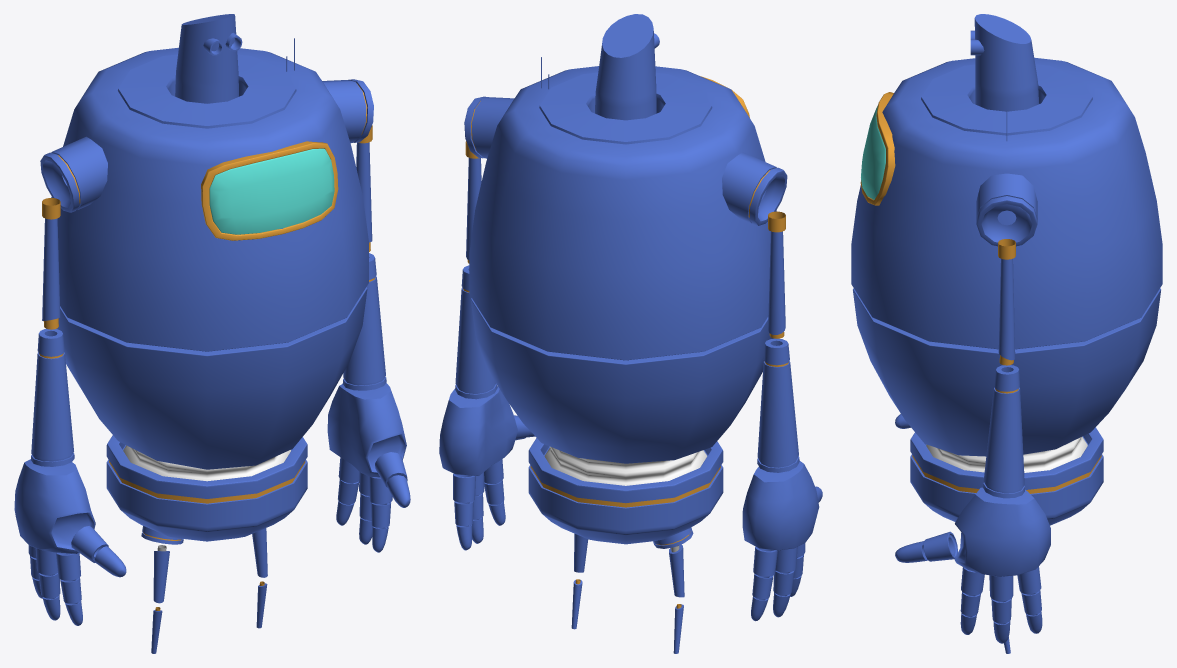
Rendered from Robot.fbx.
The picture shows the model from 3 angles, left to right: view 1: azimuth 30°, elevation 25°; view 2: azimuth 150°, elevation 25°; view 3: azimuth 270°, elevation 25°; orthographic projection. The views are drawn at different scales.
Parts seen in each view (by area): view 1: Torso_Geo, Hip_Geo, R_Hand_Geo, L_Hand_Geo, Head_Geo_Grp, R_Lower_Arm_Geo, L_Lower_Arm_Geo, R_Upper_Arm_Geo, Spine_Geo, L_Upper_Arm_Geo, R_Finger_01_Piece_01_Geo, R_Front_Thigh_Geo (+5 smaller); view 2: Torso_Geo, Hip_Geo, Head_Geo_Grp, R_Hand_Geo, L_Hand_Geo, R_Lower_Arm_Geo, Spine_Geo, L_Lower_Arm_Geo, R_Upper_Arm_Geo, L_Upper_Arm_Geo, R_Front_Thigh_Geo, L_Finger_04_Piece_01_Geo (+1 smaller); view 3: Torso_Geo, Hip_Geo, L_Hand_Geo, Head_Geo_Grp, L_Lower_Arm_Geo, Spine_Geo, L_Upper_Arm_Geo, L_Finger_01_Piece_01_Geo, L_Finger_03_Piece_01_Geo, L_Finger_02_Piece_01_Geo, L_Finger_01_Piece_02_Geo, L_Finger_04_Piece_01_Geo (+1 smaller).
Boxes of the visible parts, x1,y1,x2,y2 form: Torso_Geo: [40, 38, 373, 469]; Hip_Geo: [106, 435, 307, 544]; R_Hand_Geo: [14, 459, 95, 553]; L_Hand_Geo: [327, 383, 406, 477]; Head_Geo_Grp: [175, 14, 242, 103]; R_Lower_Arm_Geo: [31, 328, 74, 466]; L_Lower_Arm_Geo: [342, 253, 386, 390]; R_Upper_Arm_Geo: [42, 198, 60, 329]; Spine_Geo: [123, 445, 290, 481]; L_Upper_Arm_Geo: [356, 125, 372, 251]; R_Finger_01_Piece_01_Geo: [71, 525, 108, 562]; R_Front_Thigh_Geo: [153, 545, 169, 603]; Torso_Geo: [464, 57, 787, 463]; Hip_Geo: [528, 438, 723, 548]; Head_Geo_Grp: [595, 14, 659, 120]; R_Hand_Geo: [742, 461, 819, 550]; L_Hand_Geo: [439, 386, 517, 475]; R_Lower_Arm_Geo: [757, 338, 799, 472]; Spine_Geo: [544, 446, 707, 485]; L_Lower_Arm_Geo: [455, 265, 497, 399]; R_Upper_Arm_Geo: [768, 211, 785, 338]; L_Upper_Arm_Geo: [465, 141, 481, 263]; R_Front_Thigh_Geo: [669, 544, 684, 597]; L_Finger_04_Piece_01_Geo: [453, 473, 475, 502]; Torso_Geo: [851, 57, 1162, 456]; Hip_Geo: [910, 427, 1103, 525]; L_Hand_Geo: [954, 487, 1050, 576]; Head_Geo_Grp: [970, 14, 1039, 111]; L_Lower_Arm_Geo: [983, 365, 1024, 498]; Spine_Geo: [926, 437, 1087, 472]; L_Upper_Arm_Geo: [998, 239, 1015, 365]; L_Finger_01_Piece_01_Geo: [923, 531, 957, 561]; L_Finger_03_Piece_01_Geo: [989, 575, 1013, 601]; L_Finger_02_Piece_01_Geo: [961, 567, 984, 595]; L_Finger_01_Piece_02_Geo: [895, 541, 927, 562]; L_Finger_04_Piece_01_Geo: [1017, 566, 1041, 594].
Bounding box in the file's own units: 8.74 × 14.14 × 6.54.
